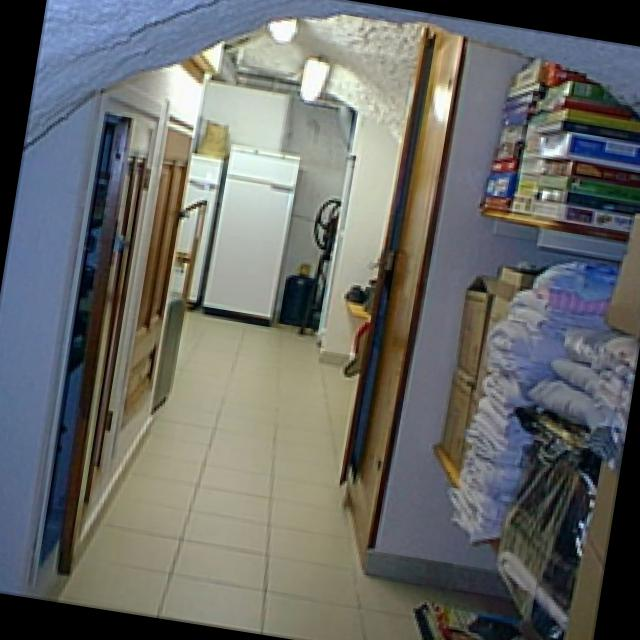refrigerator: (209, 142, 306, 313)
